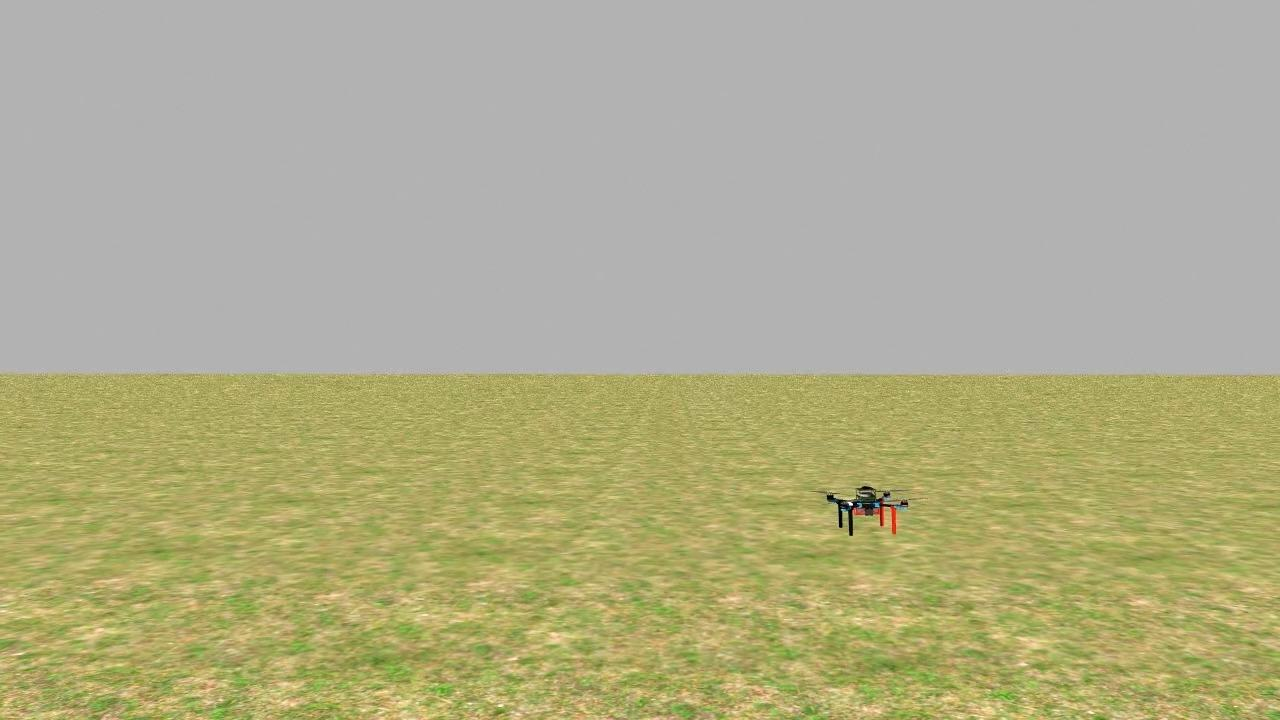UAV: (816, 469, 918, 543)
